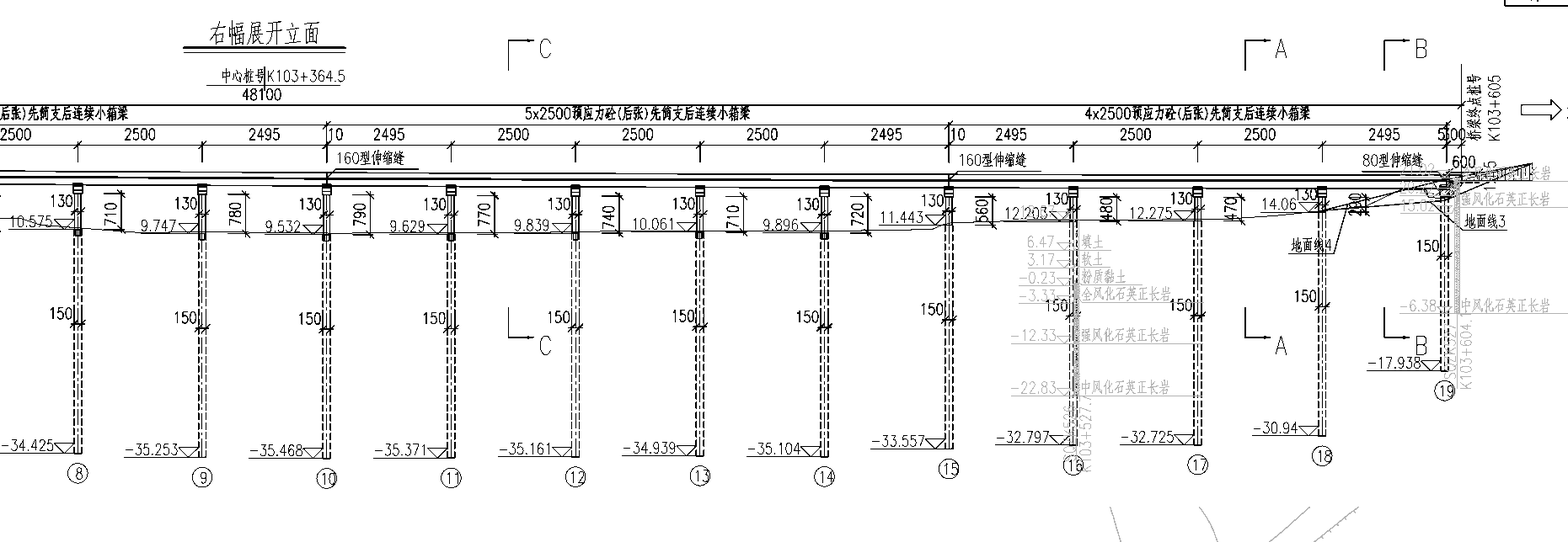B: (950, 92, 1459, 140)
C: (492, 174, 598, 496), (742, 175, 847, 495), (864, 176, 971, 488), (120, 174, 224, 493), (617, 175, 721, 494), (244, 175, 347, 496), (371, 176, 473, 496), (0, 173, 100, 495), (1119, 178, 1218, 481), (1000, 178, 1094, 483), (1250, 178, 1342, 474), (1365, 190, 1464, 410), (498, 179, 592, 360)
